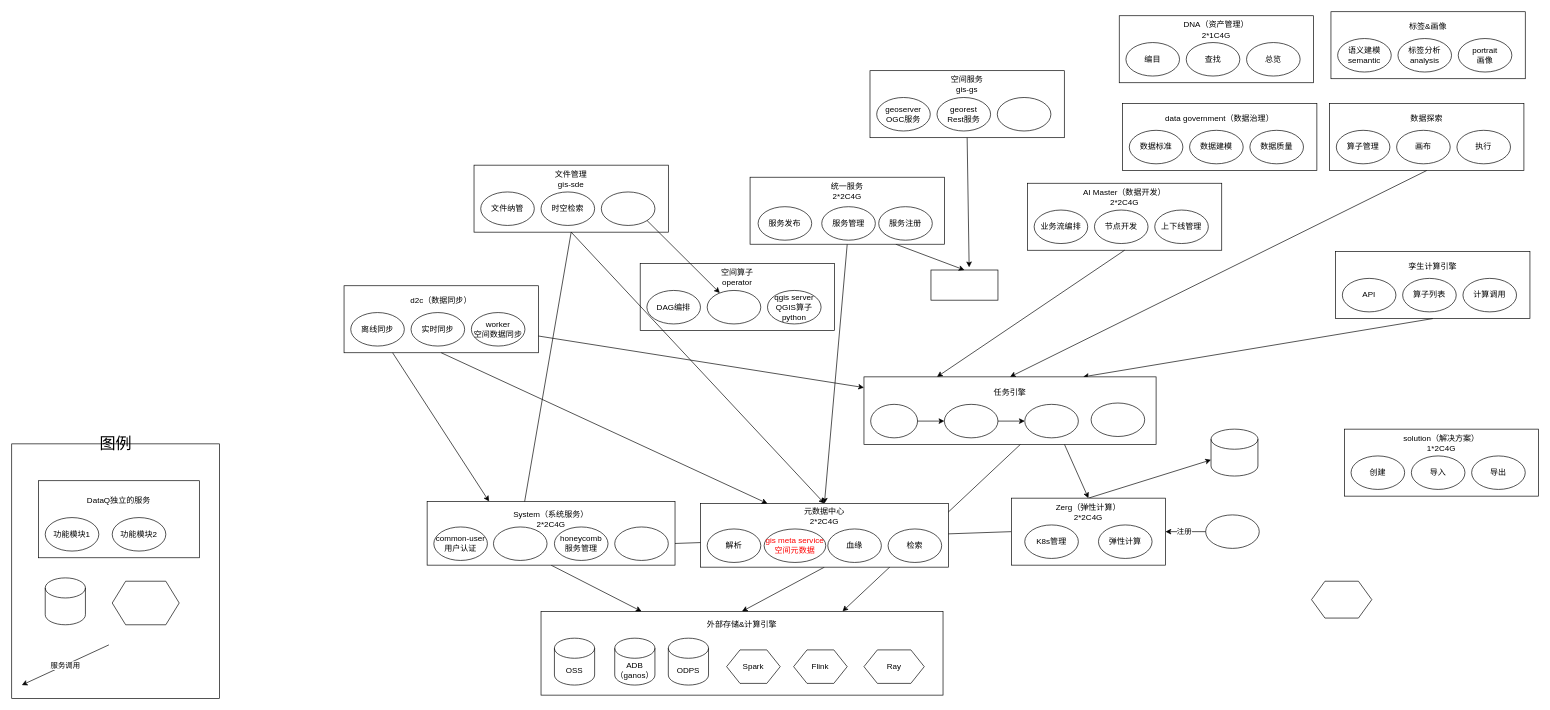
The diagram is 1550 pixels wide and 710 high, and some of its shapes have lost their labels. Here are the shapes that lost their labels. From the top down, the centre of each, then its label:
point (628, 208): 数据处理
point (964, 284): databus 2*2C4G 网关
point (734, 307): gis-operator Java自研算子
point (894, 421): azk 任务中心
point (971, 421): octopus 任务调度
point (1051, 421): Executor 执行器
point (1117, 419): over watch 全景监控
point (1234, 452): Image Repo 镜像托管
point (520, 543): Adam 云资源管理
point (641, 543): FileRepo 文件存储
point (1232, 531): k8s资源
point (65, 601): 存储&计算
point (145, 603): 独立计算引擎
point (1341, 599): 空间计算
